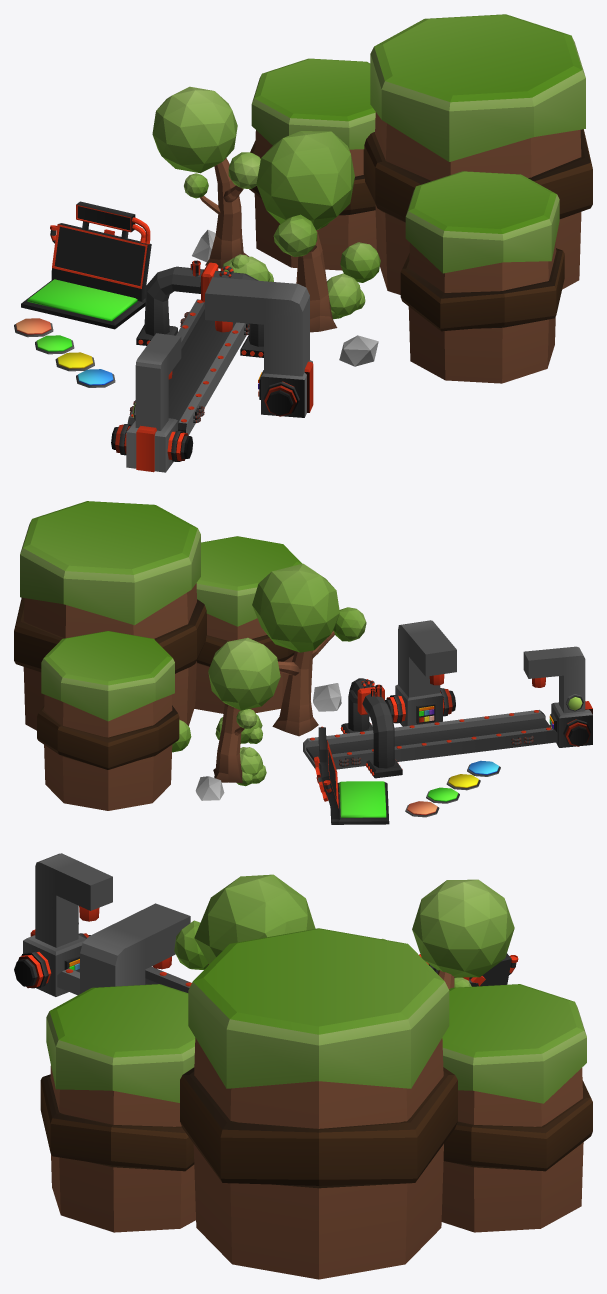
Rendered from Tycoon Asset Pack #1(SketchFab2).fbx.
The picture shows the model from 3 angles, top to bottom: view 1: azimuth 30°, elevation 25°; view 2: azimuth 150°, elevation 25°; view 3: azimuth 270°, elevation 25°; orthographic projection. The views are drawn at different scales.
Visible parts, largest first — view 1: Cylinder.041, Cylinder.047, Cylinder 9999, Cylinder 7777, Cylinder.045, Cube 9876, Icosphere, Cylinder.046, Icosphere.003, Cube.024, Cylinder.040, Cube 765 (+16 smaller); view 2: Cylinder.041, Cylinder.045, Cylinder 8888, Cylinder 7777, Icosphere, Cylinder.047, Cube 678543, Cylinder.043, Cube 9876, Icosphere.003, Cylinder.040, Cube 765 (+13 smaller); view 3: Cylinder.041, Cylinder 7777, Cylinder.040, Cylinder.047, Cylinder.045, Cylinder 9999, Cylinder 8888, Icosphere.003, Cylinder.046, Cube 765, Cylinder.043, Icosphere (+4 smaller).
Part boxes in pixels (x1,y1,x2,y2): Cylinder.041: (370,14,585,161); Cylinder.047: (405,171,559,273); Cylinder 9999: (408,240,556,383); Cylinder 7777: (375,112,581,294); Cylinder.045: (251,58,375,149); Cube 9876: (205,277,312,417); Icosphere: (256,131,354,230); Cylinder.046: (400,248,564,331); Icosphere.003: (152,86,237,173); Cube.024: (51,223,151,306); Cylinder.040: (363,129,592,222); Cube 765: (126,333,181,472); Cylinder.041: (20,501,200,625); Cylinder.045: (41,631,174,721); Cylinder 8888: (44,694,172,810); Cylinder 7777: (23,583,196,730); Icosphere: (252,563,339,652); Cylinder.047: (196,536,301,626); Cube 678543: (303,710,557,769); Cylinder.043: (37,705,179,769); Cube 9876: (395,620,456,726); Icosphere.003: (208,637,280,710); Cylinder.040: (14,597,206,673); Cube 765: (523,646,592,747); Cylinder.041: (188,928,449,1088); Cylinder 7777: (193,1038,443,1279); Cylinder.040: (180,1067,457,1188); Cylinder.047: (46,984,195,1102); Cylinder.045: (442,984,586,1103); Cylinder 9999: (50,1066,195,1232); Cylinder 8888: (441,1067,583,1232); Icosphere.003: (412,879,514,977); Cylinder.046: (40,1074,194,1171); Cube 765: (23,853,112,996); Cylinder.043: (443,1080,592,1171); Icosphere: (194,874,315,964).
Size of the model in its own units: 3185 by 1188 by 2389.
9 materials, 9 textured.
